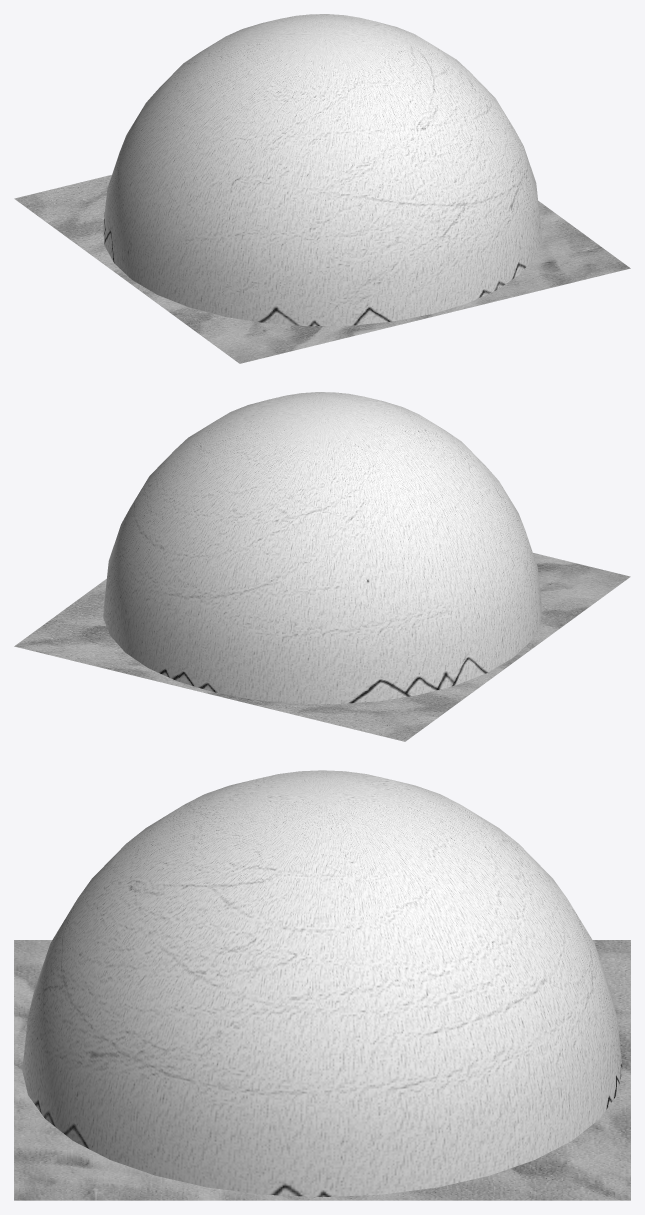
3 renders of one model, top to bottom at view 1: azimuth 30°, elevation 25°; view 2: azimuth 150°, elevation 25°; view 3: azimuth 270°, elevation 25°, orthographic. The views are drawn at different scales.
Parts seen in each view (by area): view 1: Sphere, Plane; view 2: Sphere, Plane; view 3: Sphere, Plane.
Part boxes in pixels (left/top/right/bottom): Sphere: left=103, top=14, right=541, bottom=326; Plane: left=14, top=175, right=630, bottom=363; Sphere: left=103, top=392, right=541, bottom=704; Plane: left=14, top=553, right=630, bottom=741; Sphere: left=22, top=770, right=622, bottom=1197; Plane: left=14, top=940, right=630, bottom=1200.
Size of the model in its own units: 583 by 284 by 583.
Materials: 2 (2 with a texture image).
